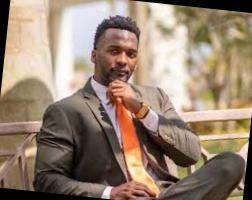Sober: (101, 30, 136, 79)
